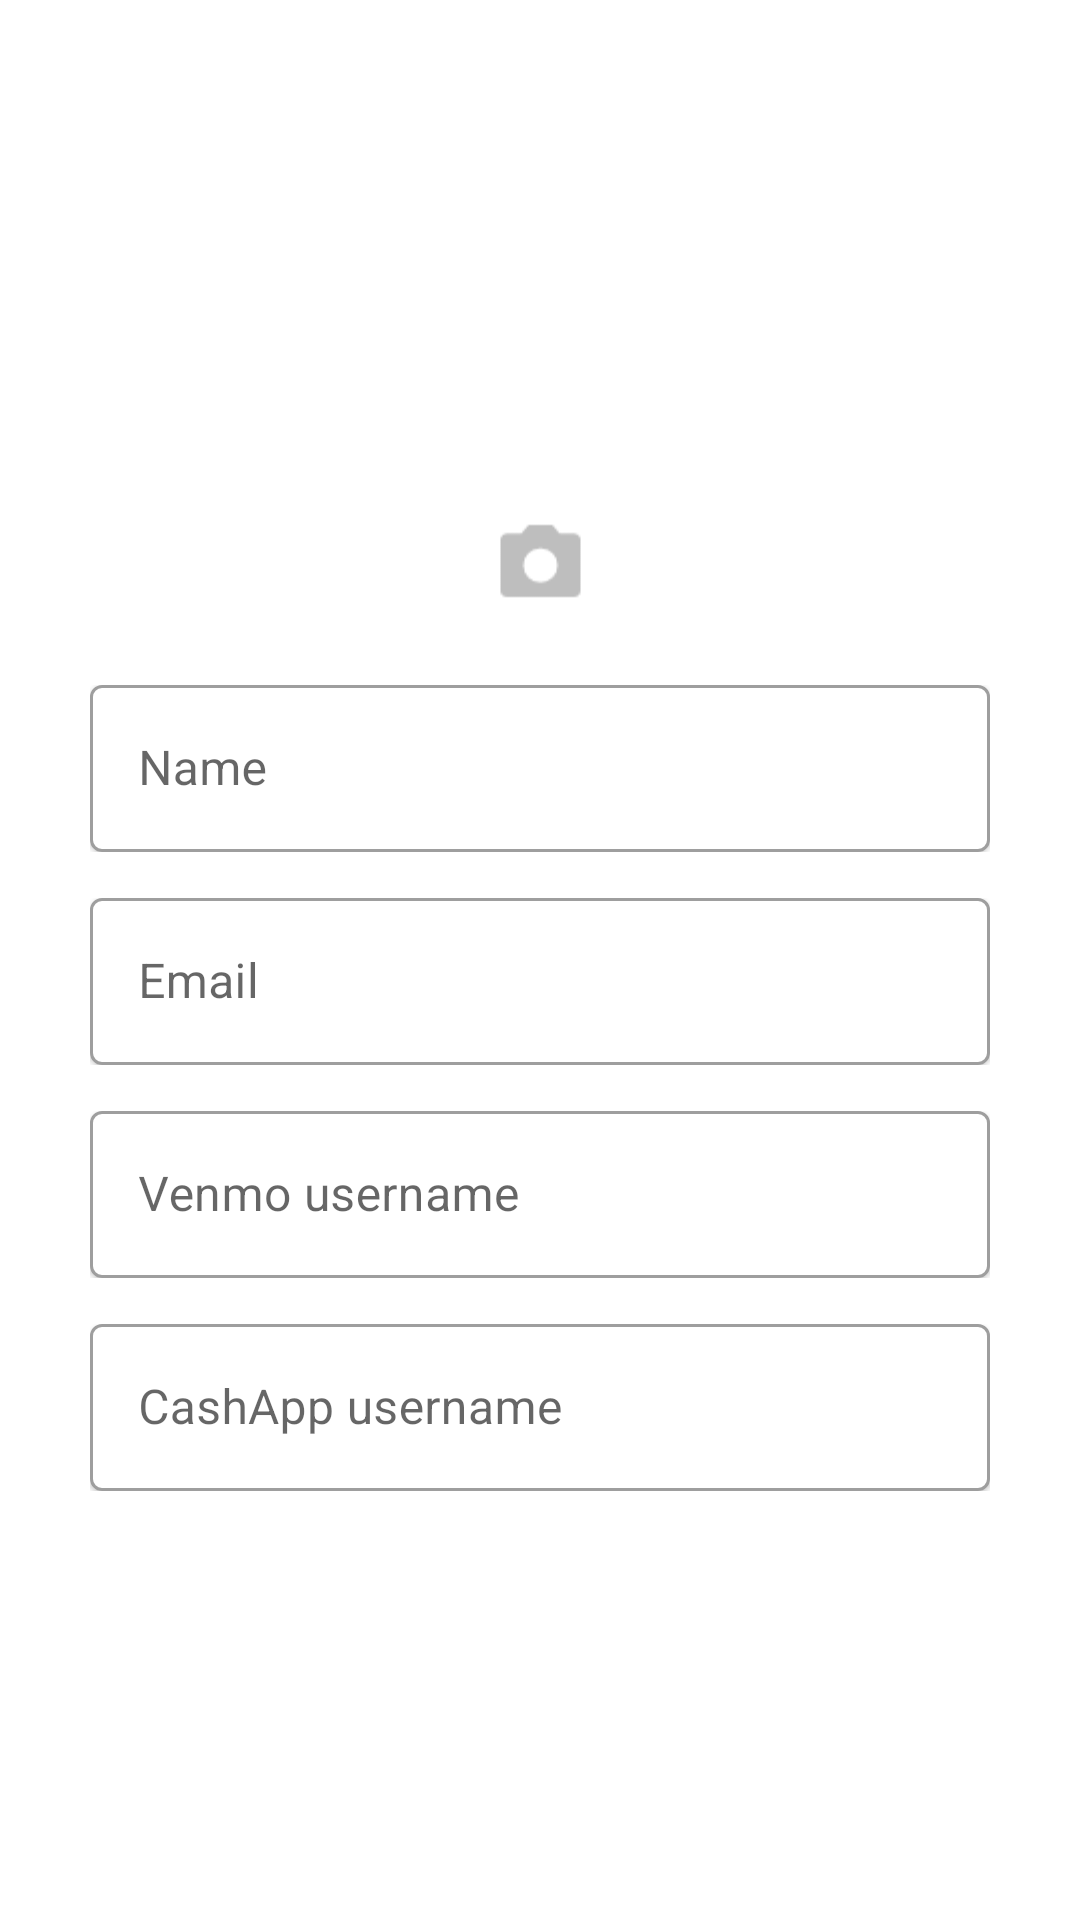

Named icons in this screenshot (1080 × 1920) and their bounding boxes, (x1, y1, x2, y2):
camera: (500, 525, 581, 597)
